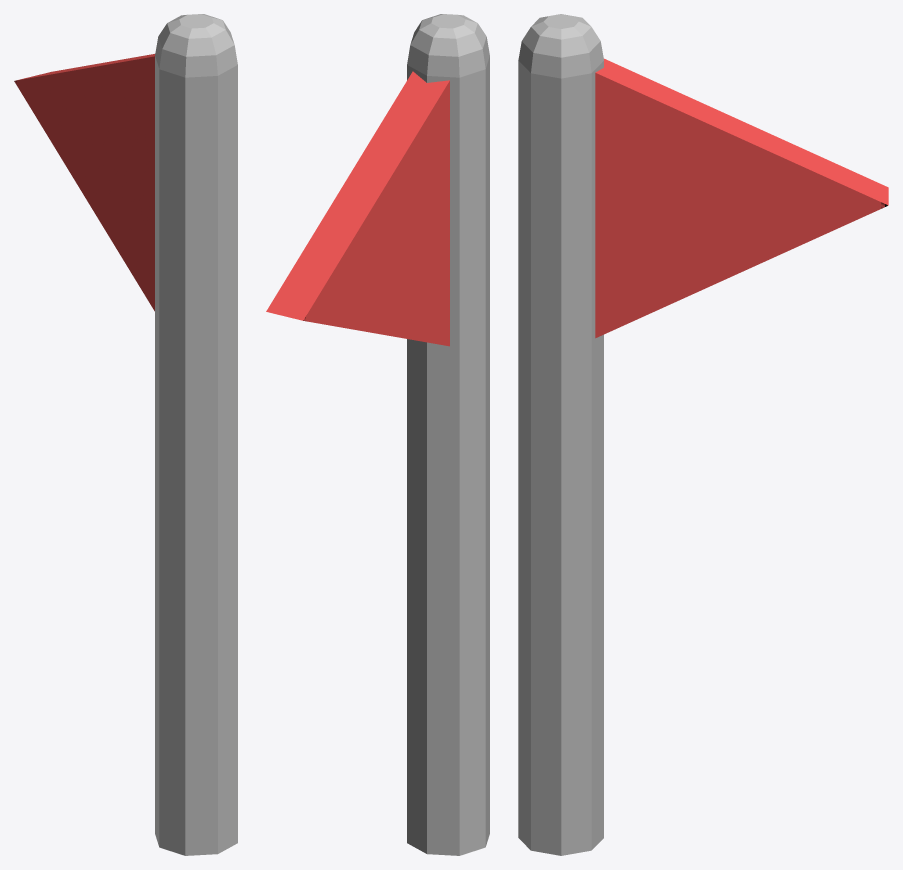
The model's file is Flag.obj.
3 views of the same model, side by side, from view 1: azimuth 30°, elevation 25°; view 2: azimuth 150°, elevation 25°; view 3: azimuth 270°, elevation 25° (orthographic).
Parts seen in each view (by area): view 1: Cylinder; view 2: Cylinder; view 3: Cylinder.
Part boxes in pixels (left/top/right/bottom): Cylinder: left=14, top=14, right=237, bottom=855; Cylinder: left=266, top=14, right=489, bottom=855; Cylinder: left=518, top=14, right=888, bottom=855.
Size of the model in its own units: 0.4 by 4.2 by 1.73.
